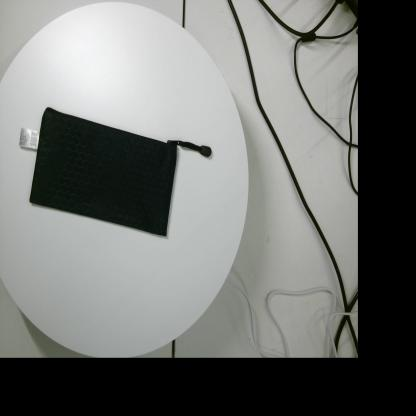Stationery: (19, 107, 212, 236)
